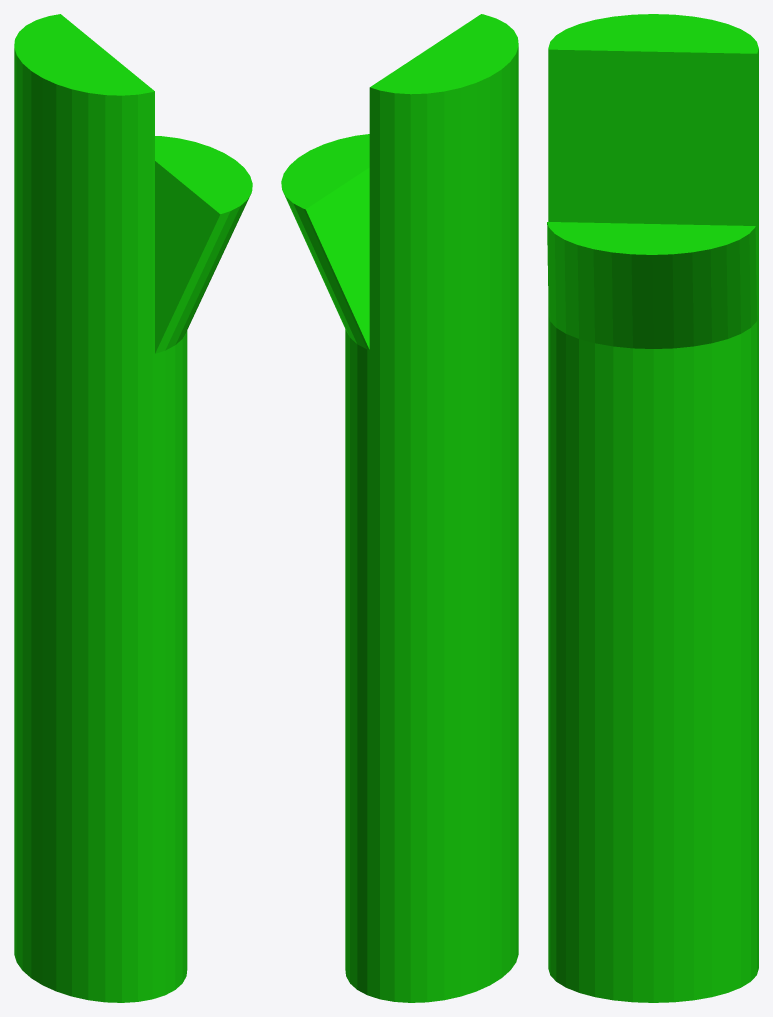
Rendered from Celery.fbx.
3 renders of one model, left to right at view 1: azimuth 30°, elevation 25°; view 2: azimuth 150°, elevation 25°; view 3: azimuth 270°, elevation 25°, orthographic.
Parts seen in each view (by area): view 1: Cylinder; view 2: Cylinder; view 3: Cylinder.
Boxes of the visible parts, x1,y1,x2,y2 form: Cylinder: (14, 14, 252, 1002); Cylinder: (281, 14, 518, 1002); Cylinder: (547, 14, 758, 1002).
Size of the model in its own units: 61.31 by 261 by 54.44.
